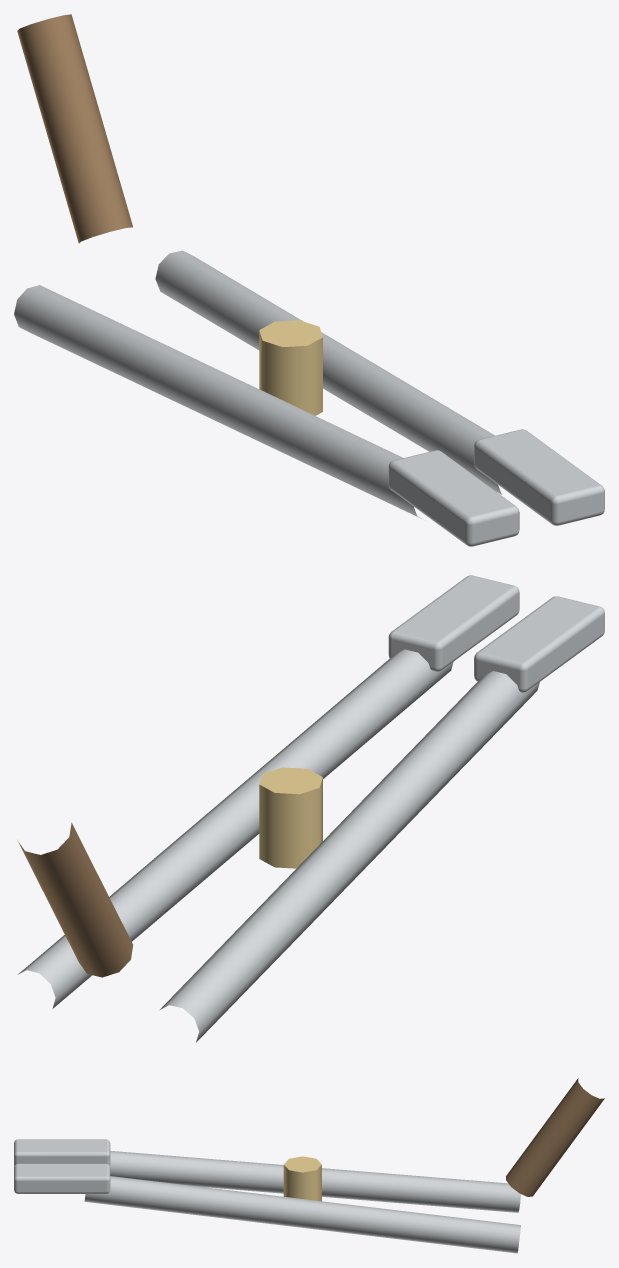
File: marquetry-and-veneer-inlay-workshop-shading-tongs-fc3c35fa__39113.glb
3 views of the same model, one above another, from view 1: azimuth 30°, elevation 25°; view 2: azimuth 150°, elevation 25°; view 3: azimuth 270°, elevation 25° (orthographic). The views are drawn at different scales.
Parts seen in each view (by area): view 1: shading-tongs; view 2: shading-tongs; view 3: shading-tongs.
Part boxes in pixels (bbox=[...]): shading-tongs: bbox=[14, 14, 604, 546]; shading-tongs: bbox=[17, 575, 604, 1042]; shading-tongs: bbox=[14, 1078, 604, 1253].
Bounding box in the file's own units: 0.052 × 0.0694 × 0.2455.
